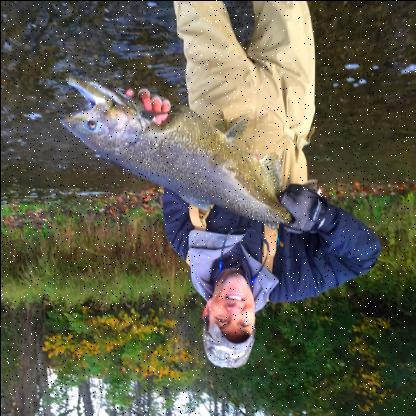fish: (63, 74, 318, 230)
